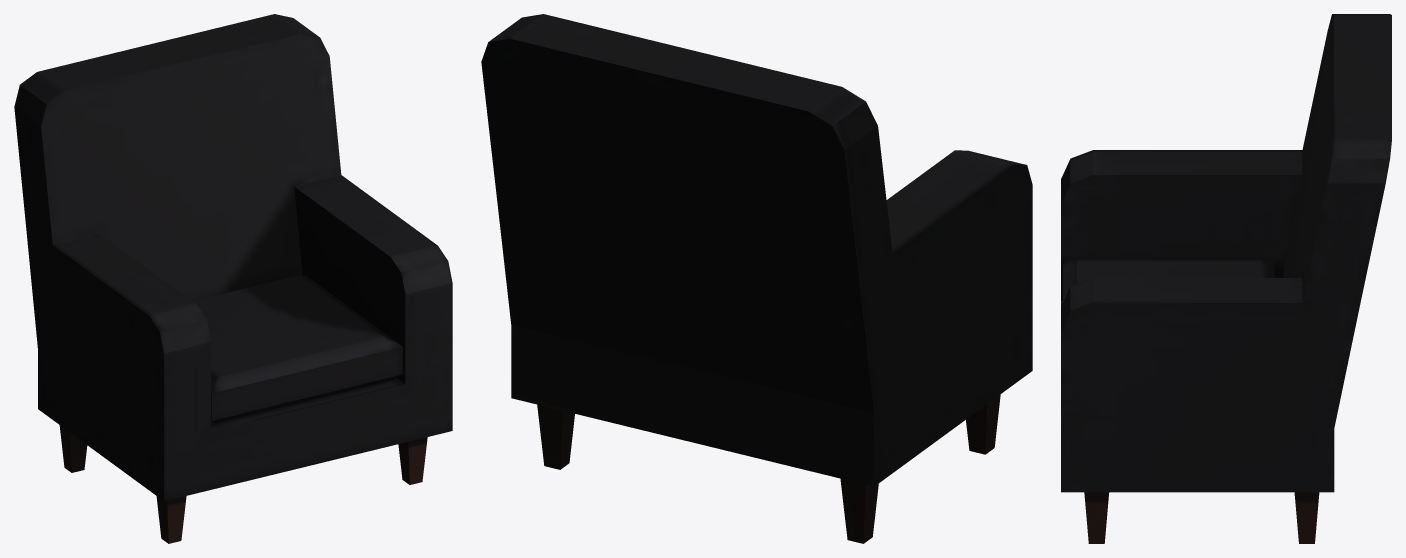
The model's file is sillon_h.glb.
3 renders of one model, left to right at view 1: azimuth 30°, elevation 25°; view 2: azimuth 150°, elevation 25°; view 3: azimuth 270°, elevation 25°, orthographic. The views are drawn at different scales.
Visible parts, largest first — view 1: Armchair; view 2: Armchair; view 3: Armchair.
Boxes of the visible parts, box(x1,y1,x2,y2) form: Armchair: box(14, 14, 452, 543); Armchair: box(481, 14, 1032, 543); Armchair: box(1061, 14, 1391, 543).
Size of the model in its own units: 0.5881 by 0.7162 by 0.5384.
Materials: 1 (1 with a texture image).
